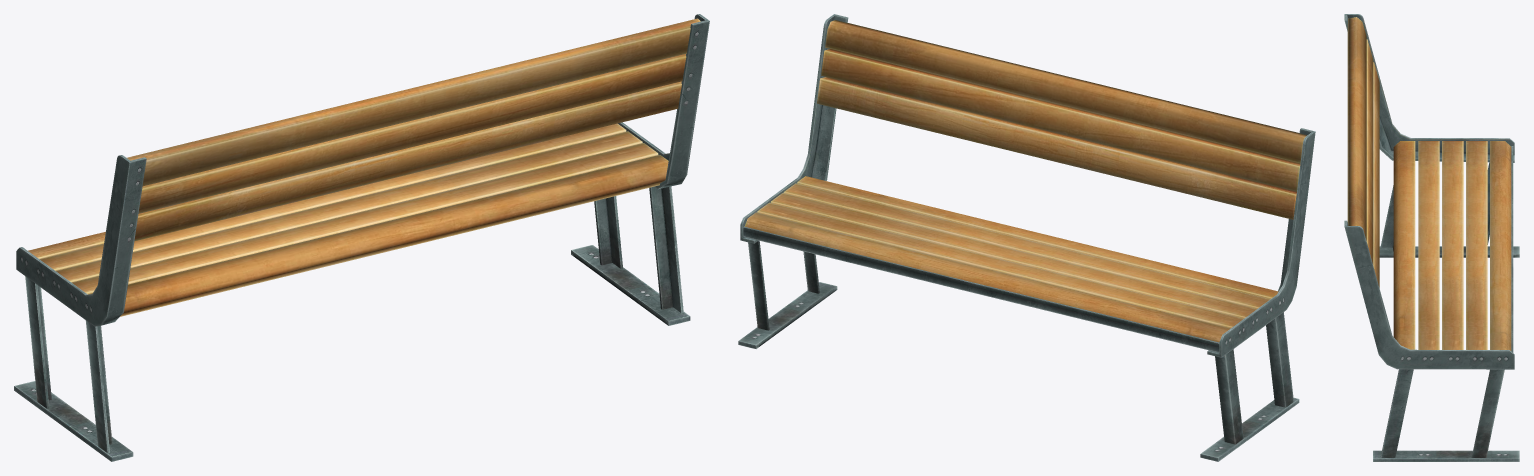
File: Park_Bench_2.glb
3 renders of one model, left to right at view 1: azimuth 30°, elevation 25°; view 2: azimuth 150°, elevation 25°; view 3: azimuth 270°, elevation 25°, orthographic. The views are drawn at different scales.
Parts seen in each view (by area): view 1: Park_Bench_2__LOD3; view 2: Park_Bench_2__LOD3; view 3: Park_Bench_2__LOD3.
Part boxes in pixels (box(x1,y1,x2,y2)): Park_Bench_2__LOD3: box(14, 14, 709, 461); Park_Bench_2__LOD3: box(738, 14, 1315, 461); Park_Bench_2__LOD3: box(1344, 14, 1519, 461).
Bounding box in the file's own units: 2.36 × 1.22 × 0.8187.
Materials: 1 (1 with a texture image).
